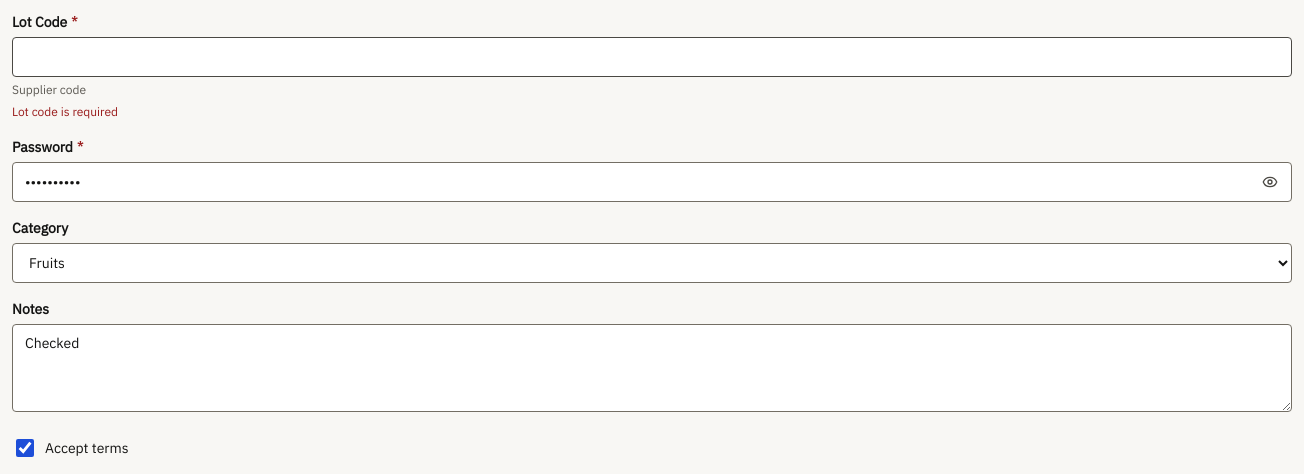
Test case: Design System UI Components & Accessibility (Part B & Part C) › links Field label, hint, and error message via aria-describedby and toggles PasswordInput
Click the button named "Show password": (1270, 182) 1252,164 -> 1288,200
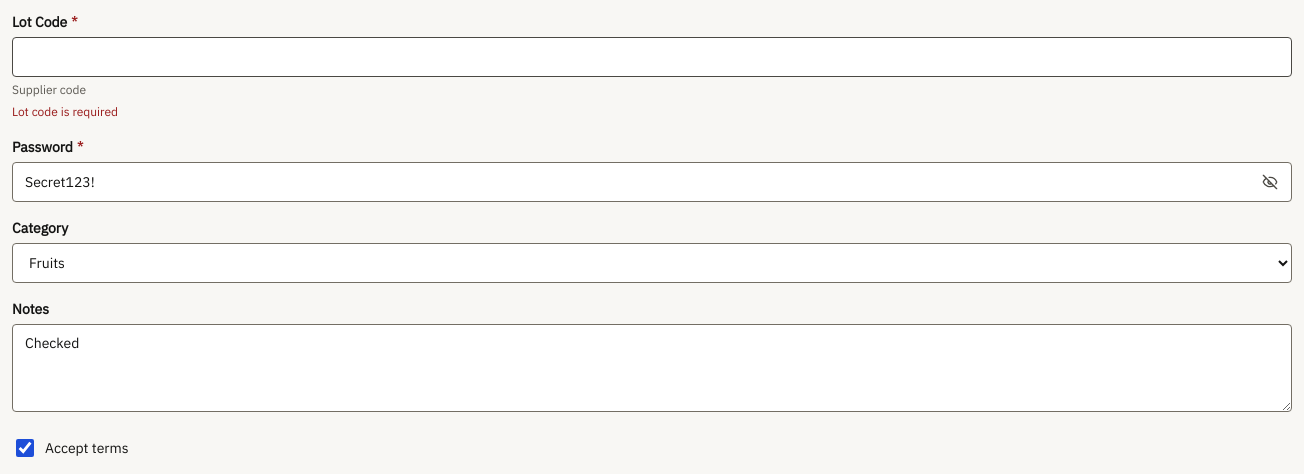
Expected: the field labelled "Password *" shows its text, 12,162 -> 1292,202
Expected: the button named "Hide password" is shown, 1252,164 -> 1288,200
